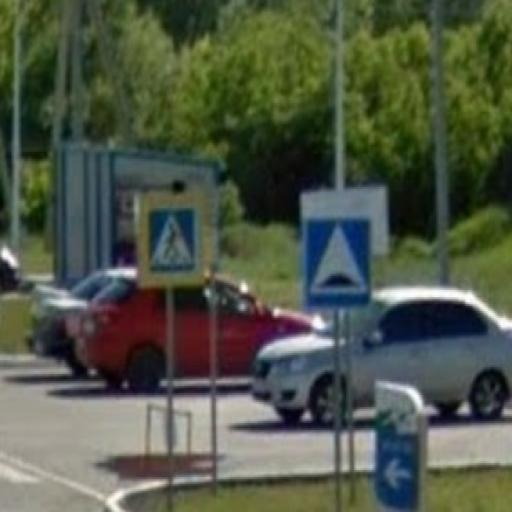traffic_sign: (301, 213, 376, 316), (138, 190, 213, 291)
